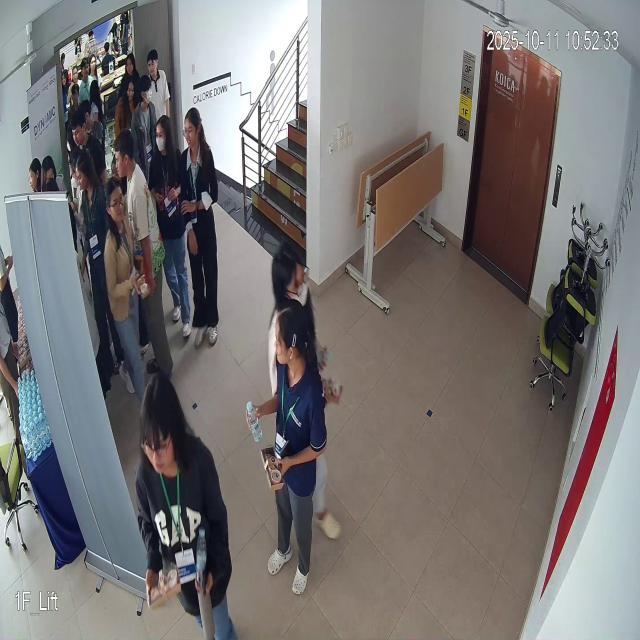face: (105, 177, 126, 227)
